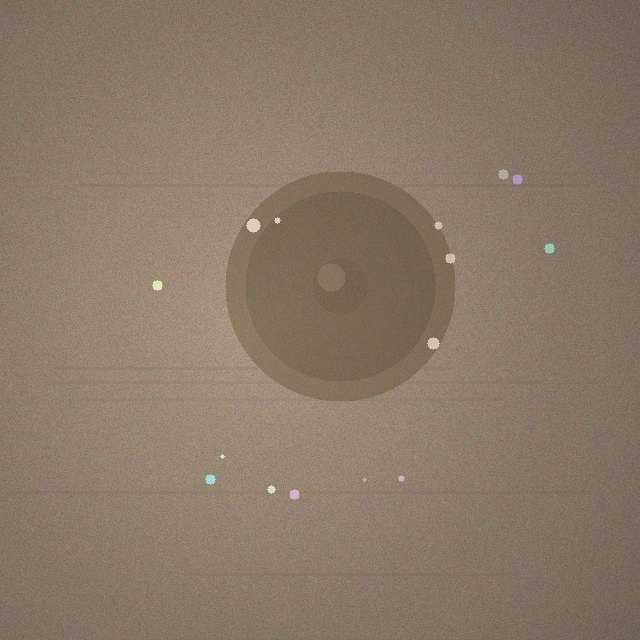overburn: (225, 171, 455, 401)
